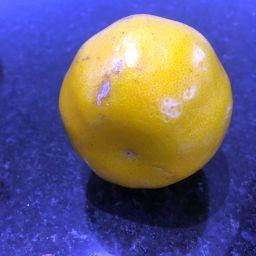Ripe: (61, 17, 233, 185)
